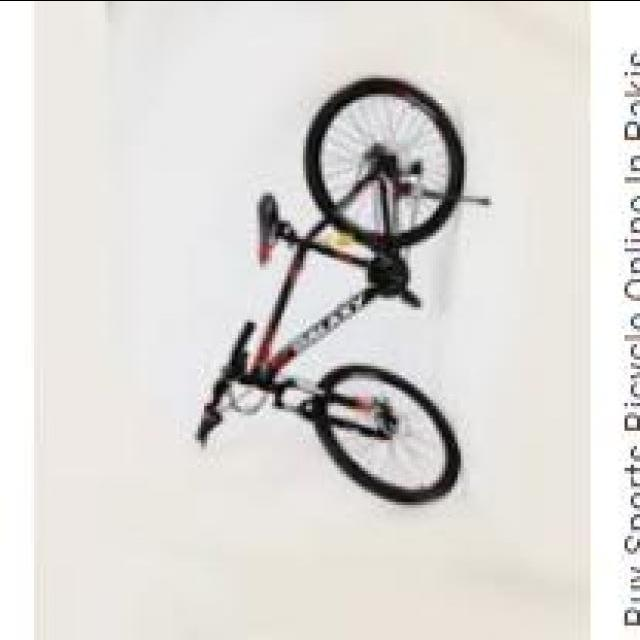bicycle: (193, 75, 477, 505)
